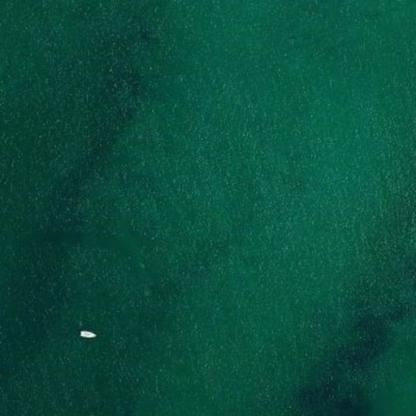ship: (86, 327, 89, 340)
